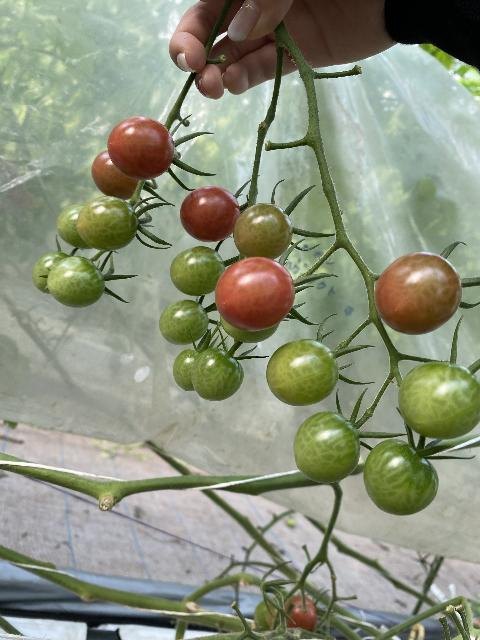l_fully_ripened: (214, 257, 297, 331), (108, 116, 174, 181), (179, 186, 240, 242)
l_green: (397, 361, 480, 441), (363, 439, 438, 516), (292, 411, 360, 484), (266, 339, 339, 406), (233, 202, 292, 261), (76, 196, 138, 251), (47, 256, 104, 308), (190, 348, 244, 402), (170, 246, 225, 296), (158, 300, 208, 346), (57, 204, 93, 250), (220, 316, 279, 344), (34, 252, 69, 294), (173, 350, 199, 392)
l_half_ripened: (374, 253, 462, 335), (92, 151, 139, 201)
